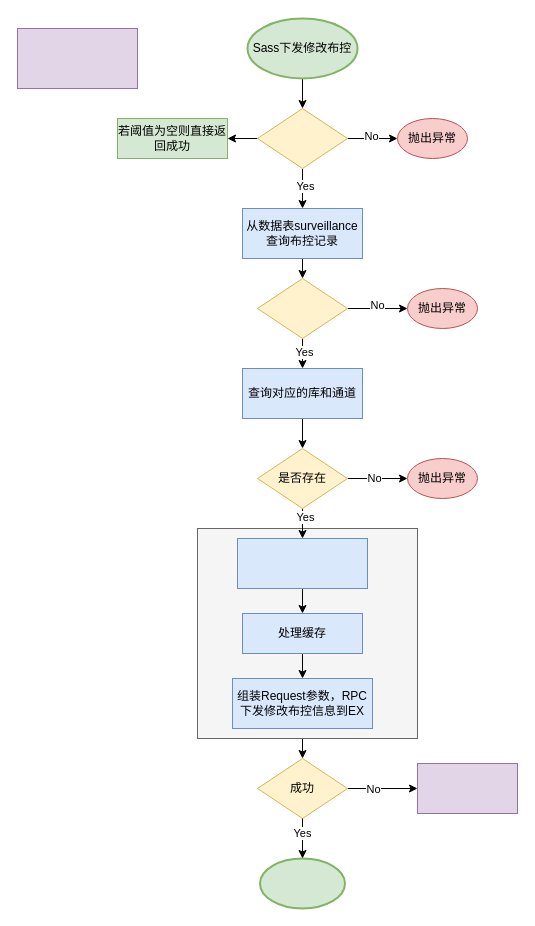
This 535x926 diagram has some shape labels left out. The box of each missing label's shape, as (x1, y1, x2, y2) in pixels:
出现错误则回滚数据库操作: (416, 762, 518, 814)
参数校验: (256, 108, 348, 168)
只修改阈值和更新时间两个字段: (16, 28, 138, 88)
布控存在: (256, 278, 348, 338)
更新surveillance表中的阈值和更新时间字段: (236, 538, 368, 588)
返回成功: (258, 857, 346, 909)
